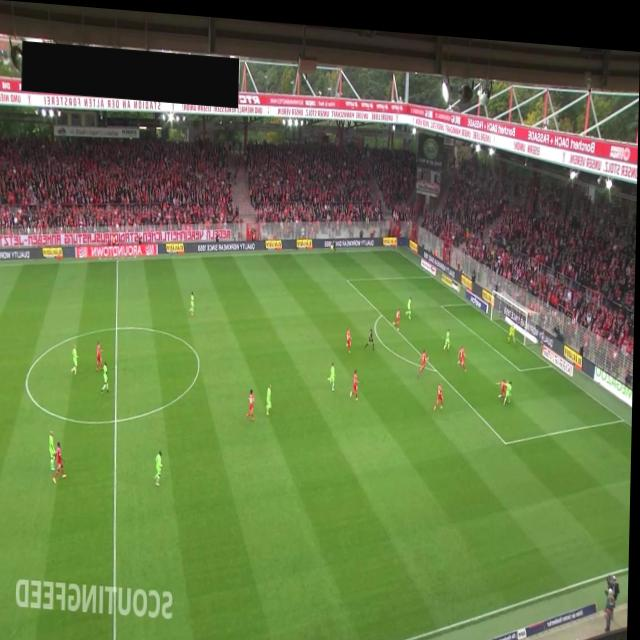goalkeeper: (508, 314, 519, 337)
player: (55, 440, 69, 483), (155, 446, 166, 483), (418, 341, 430, 372), (434, 374, 445, 407), (51, 428, 59, 470), (351, 362, 361, 394), (498, 370, 510, 396), (248, 384, 257, 417), (102, 359, 111, 391), (459, 337, 469, 365), (97, 338, 105, 371), (505, 371, 515, 397), (73, 342, 80, 375), (267, 379, 274, 411), (330, 355, 337, 384), (347, 321, 354, 348), (445, 320, 452, 344), (407, 288, 413, 313), (396, 301, 402, 324), (191, 287, 196, 313)
referee: (366, 320, 377, 345), (333, 231, 338, 246)
